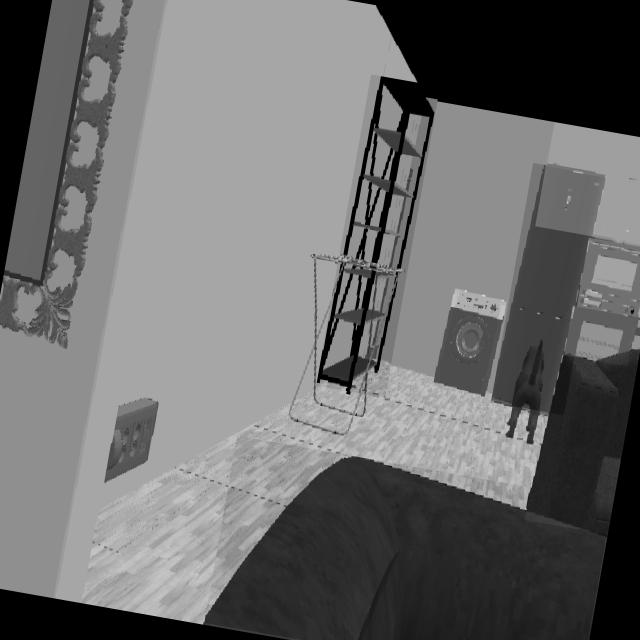cabinet: (546, 123, 640, 243)
fridge: (492, 166, 604, 412)
microwave: (578, 239, 640, 317)
oven: (566, 308, 635, 361)
shelf: (317, 77, 434, 390)
sofa: (205, 458, 605, 640), (528, 351, 639, 534)
